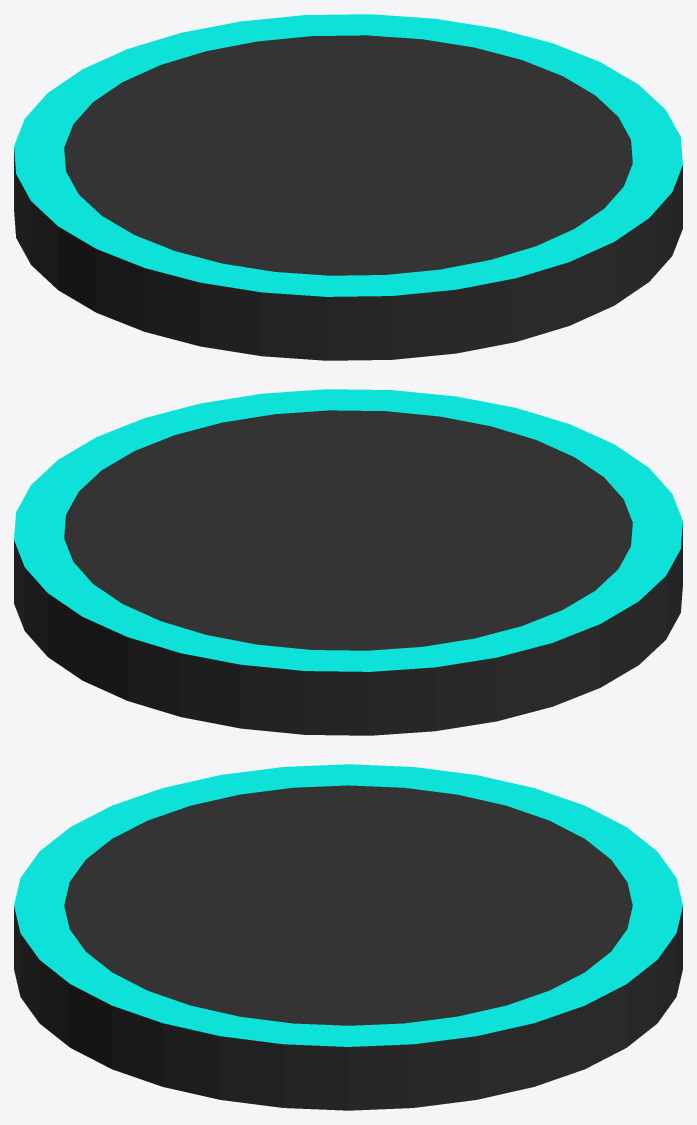
The model's file is EndbossPlatform.fbx.
3 renders of one model, top to bottom at view 1: azimuth 30°, elevation 25°; view 2: azimuth 150°, elevation 25°; view 3: azimuth 270°, elevation 25°, orthographic.
Parts seen in each view (by area): view 1: Sphere; view 2: Sphere; view 3: Sphere.
Boxes of the visible parts, x1,y1,x2,y2 form: Sphere: (14,14,682,360); Sphere: (14,389,682,735); Sphere: (14,764,682,1110).
Size of the model in its own units: 25.28 by 2.66 by 25.28.
